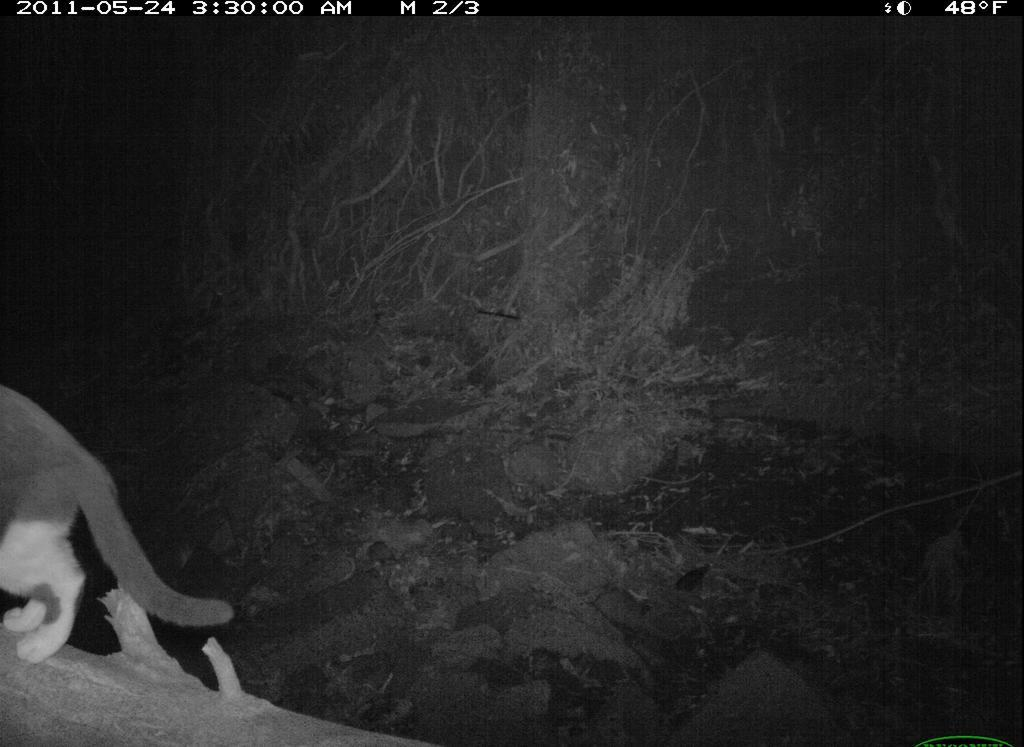cat: (1, 364, 250, 690)
